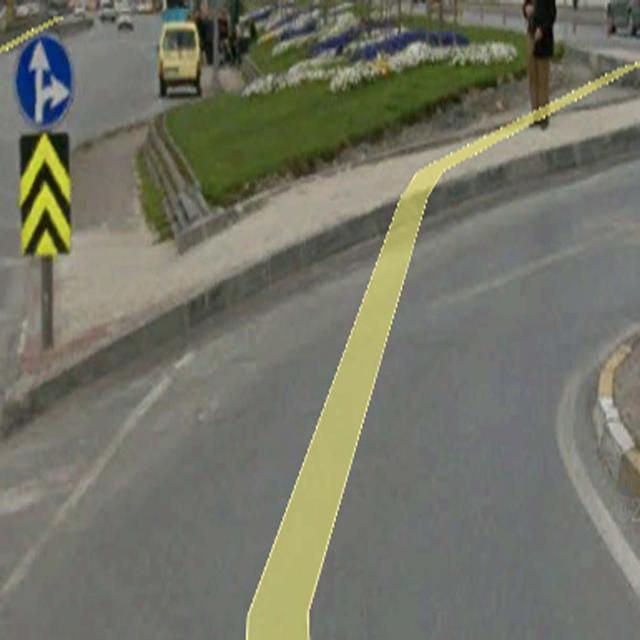ilerisag: (14, 35, 74, 129)
